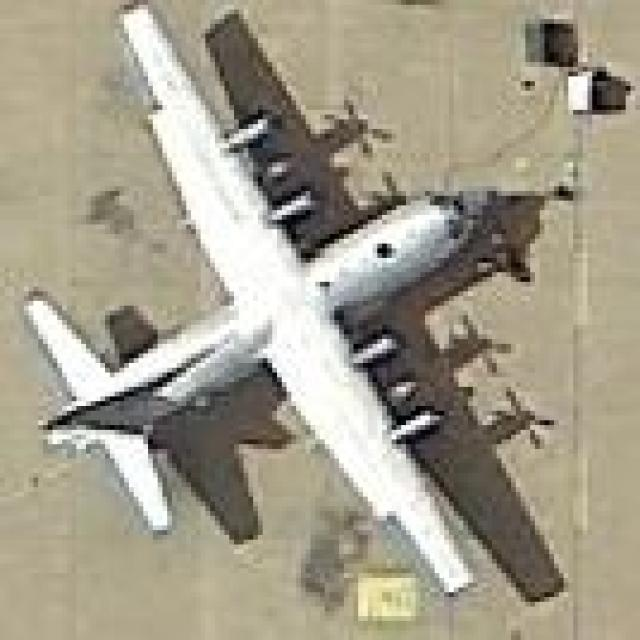C-130_TopDown: (24, 0, 567, 613)
